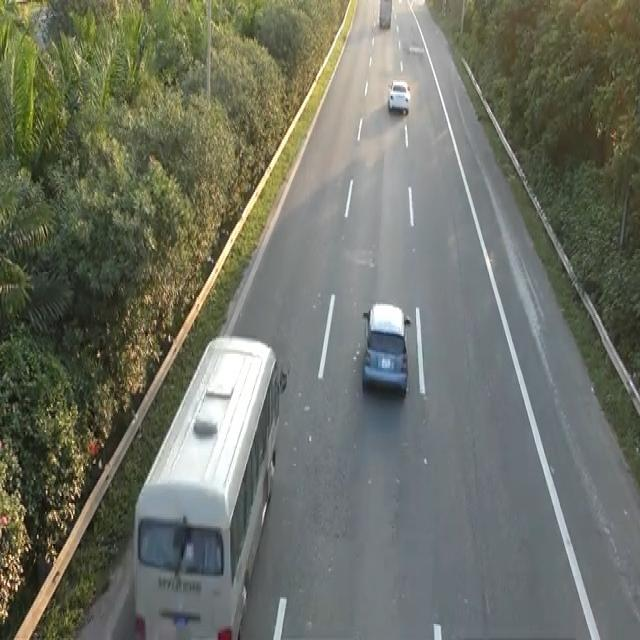bus: (359, 299, 412, 398)
jeep: (131, 330, 285, 634)
